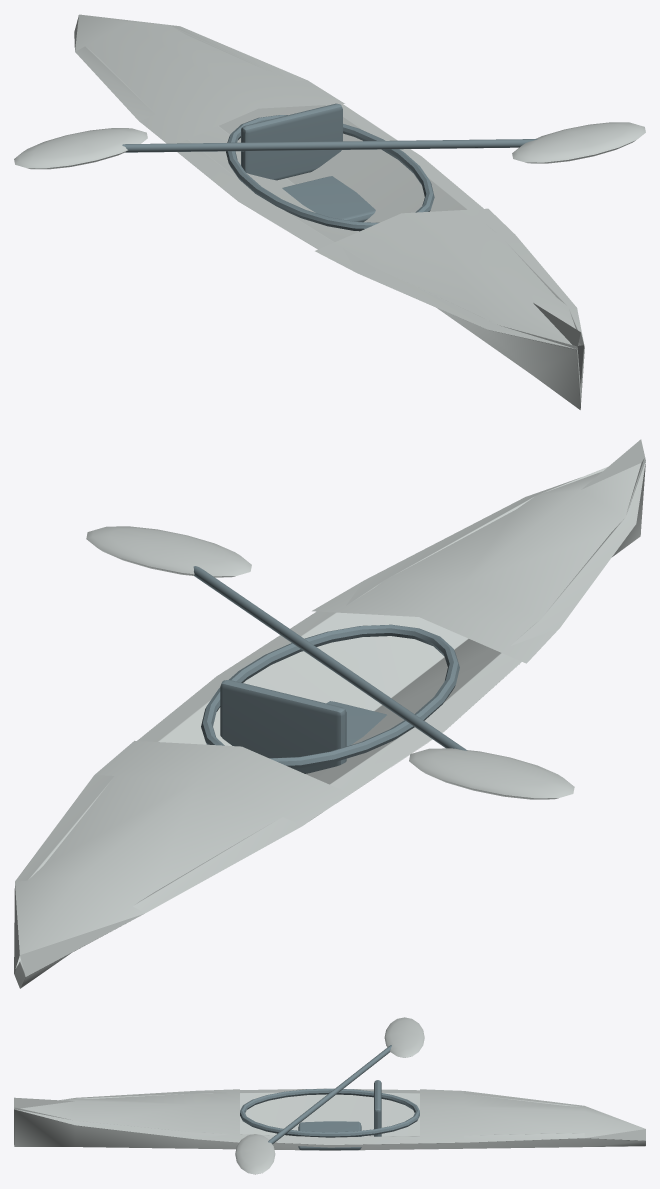
File: kayak.glb
3 views of the same model, one above another, from view 1: azimuth 30°, elevation 25°; view 2: azimuth 150°, elevation 25°; view 3: azimuth 270°, elevation 25° (orthographic). The views are drawn at different scales.
Visible parts, largest first — view 1: hollow_hull, deck.001, deck, seat_back, paddle_shaft, paddle_blade.001, paddle_blade, cockpit_coaming, seat; view 2: deck, hollow_hull, deck.001, seat_back, cockpit_coaming, paddle_blade, paddle_blade.001, paddle_shaft, seat; view 3: hollow_hull, deck, deck.001, cockpit_coaming, paddle_blade.001, paddle_blade, seat, paddle_shaft, seat_back.
Part boxes in pixels (<box>): hollow_hull: <box>75,25,584,409</box>; deck.001: <box>315,208,584,347</box>; deck: <box>74,14,344,143</box>; seat_back: <box>241,103,342,180</box>; paddle_shaft: <box>122,139,537,152</box>; paddle_blade.001: <box>512,122,645,163</box>; paddle_blade: <box>14,128,147,169</box>; cockpit_coaming: <box>226,115,434,231</box>; seat: <box>282,176,375,222</box>; deck: <box>14,740,349,976</box>; hollow_hull: <box>14,457,645,988</box>; deck.001: <box>312,439,645,663</box>; seat_back: <box>220,680,346,773</box>; cockpit_coaming: <box>201,624,459,768</box>; paddle_blade: <box>409,748,574,799</box>; paddle_blade.001: <box>86,526,251,577</box>; paddle_shaft: <box>193,566,466,750</box>; seat: <box>326,701,386,746</box>; hollow_hull: <box>14,1088,645,1150</box>; deck: <box>420,1089,645,1142</box>; deck.001: <box>14,1089,239,1142</box>; cockpit_coaming: <box>240,1088,419,1137</box>; paddle_blade.001: <box>235,1134,275,1174</box>; paddle_blade: <box>384,1017,424,1057</box>; seat: <box>298,1121,361,1150</box>; paddle_shaft: <box>268,1045,391,1144</box>; seat_back: <box>374,1080,381,1136</box>.
Size of the model in its own units: 1.94 by 0.3394 by 3.3.
